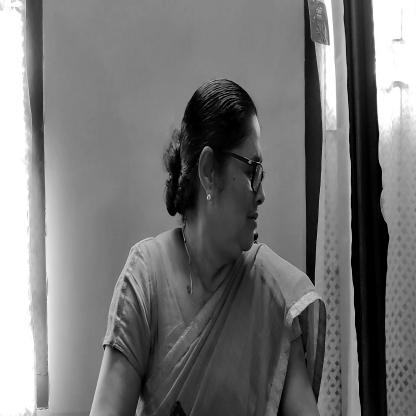Distracted: (162, 88, 270, 273)
